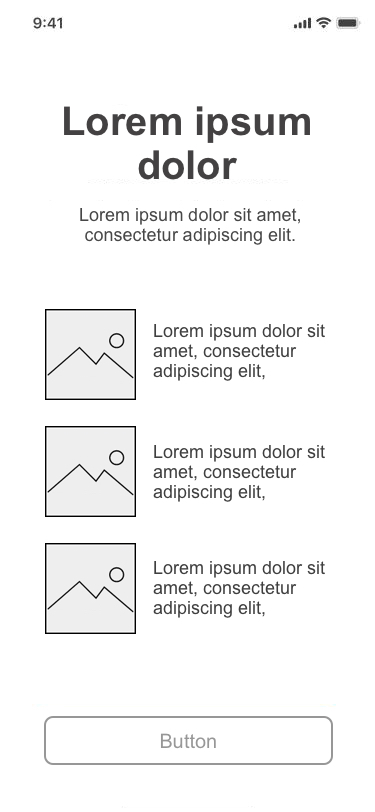Image: (45, 309, 137, 401), (45, 426, 137, 518), (45, 543, 137, 635)
Text: (64, 106, 311, 182), (153, 322, 326, 382), (153, 444, 326, 503), (153, 561, 326, 619), (80, 208, 301, 247)
TextButton: (45, 716, 334, 766)
UpperTaskBar: (33, 17, 362, 31)
